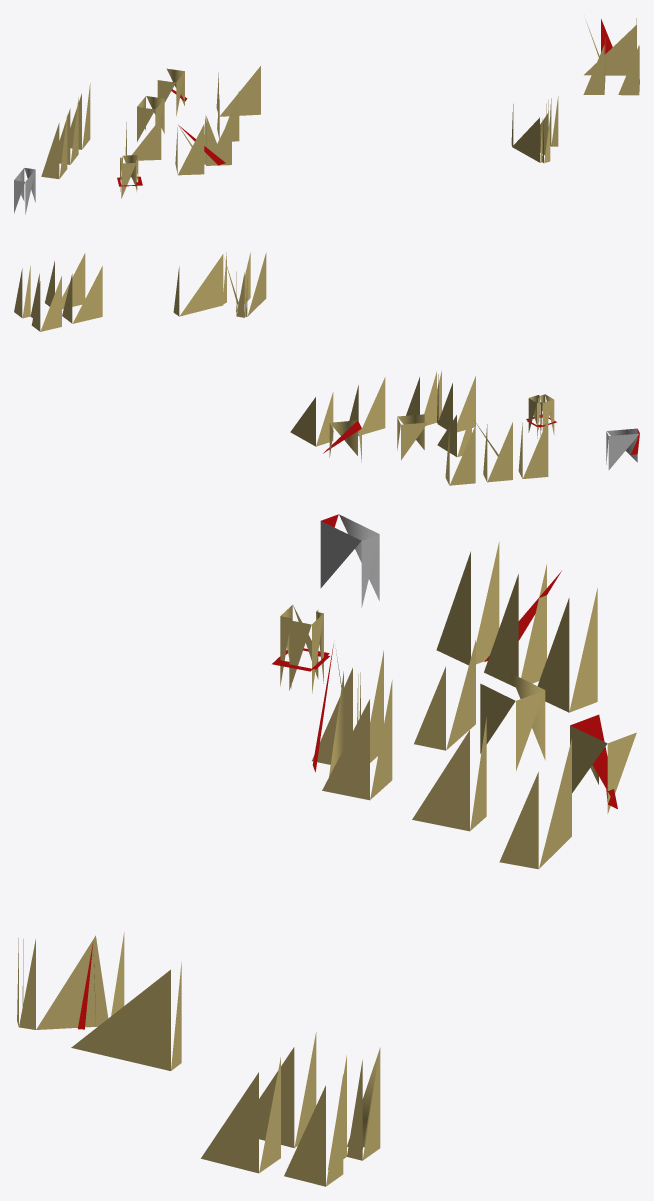
3 views of the same model, one above another, from view 1: azimuth 30°, elevation 25°; view 2: azimuth 150°, elevation 25°; view 3: azimuth 270°, elevation 25° (orthographic). The views are drawn at different scales.
Bounding box in the file's own units: 956 × 85 × 414.
